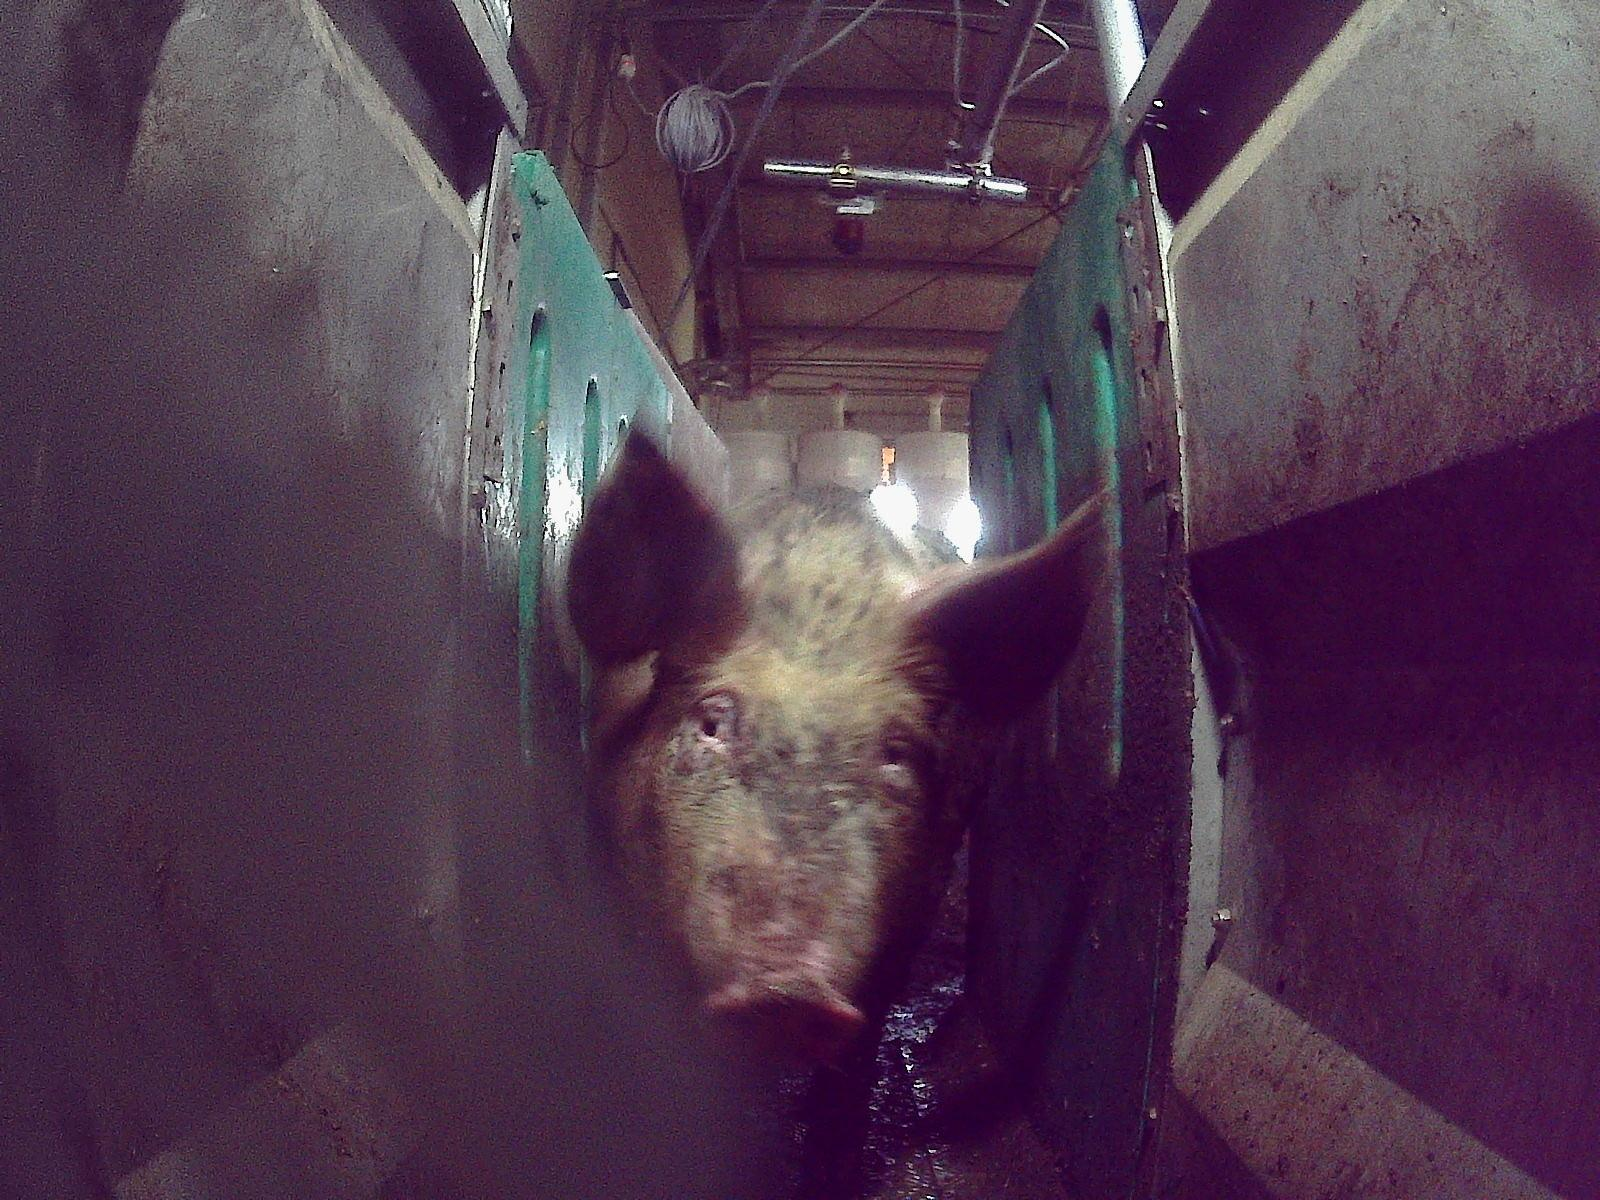Face: (657, 577, 942, 1060)
